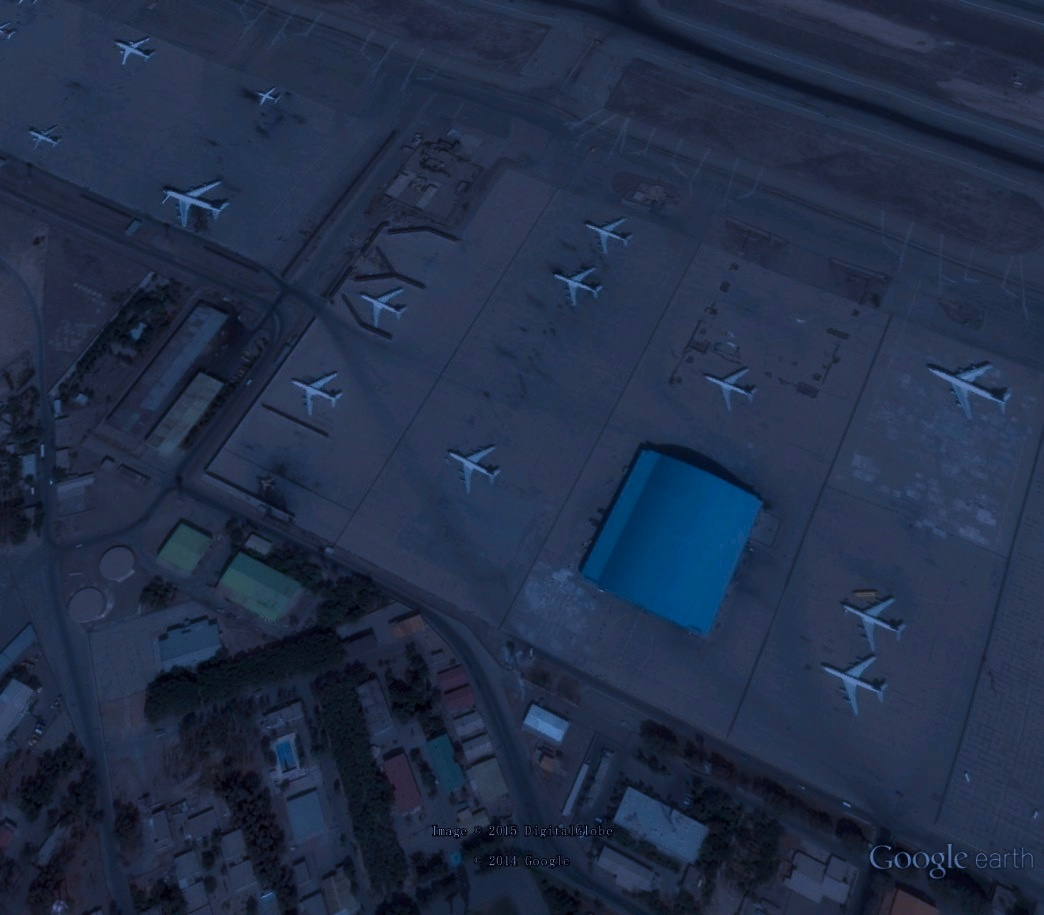aircraft: (925, 355, 1021, 423), (817, 652, 897, 721), (840, 592, 915, 661), (162, 175, 234, 232), (702, 364, 762, 420), (442, 442, 504, 495), (549, 256, 606, 313), (288, 369, 349, 420), (580, 210, 637, 262), (357, 282, 411, 333), (109, 34, 159, 69), (21, 124, 66, 157), (249, 82, 285, 109)
